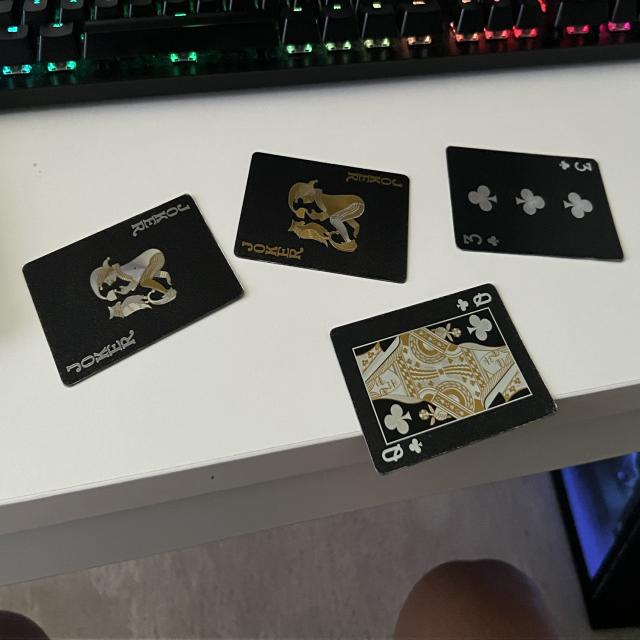3C: (557, 156, 597, 180), (460, 230, 502, 249)
BLACK JOKER: (58, 327, 144, 375), (127, 200, 194, 240)
QC: (380, 438, 424, 465), (454, 288, 495, 313)
RED JOKER: (241, 234, 307, 268), (340, 167, 408, 192)
